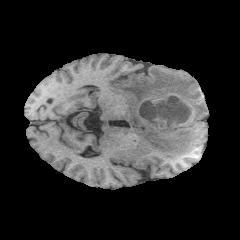glioma: (120, 67, 208, 158)
